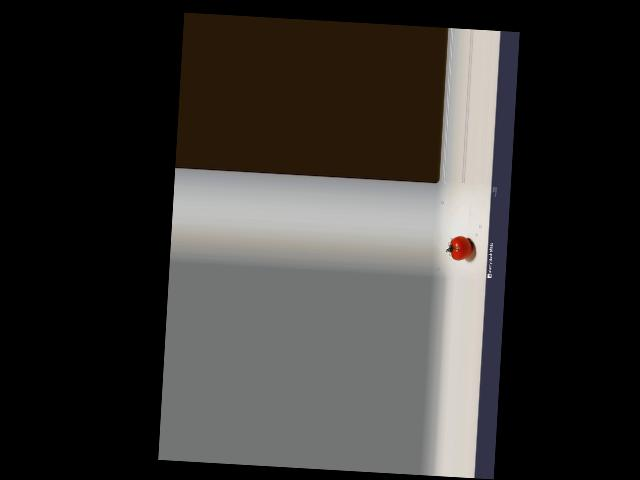tomato: (450, 235, 472, 260)
